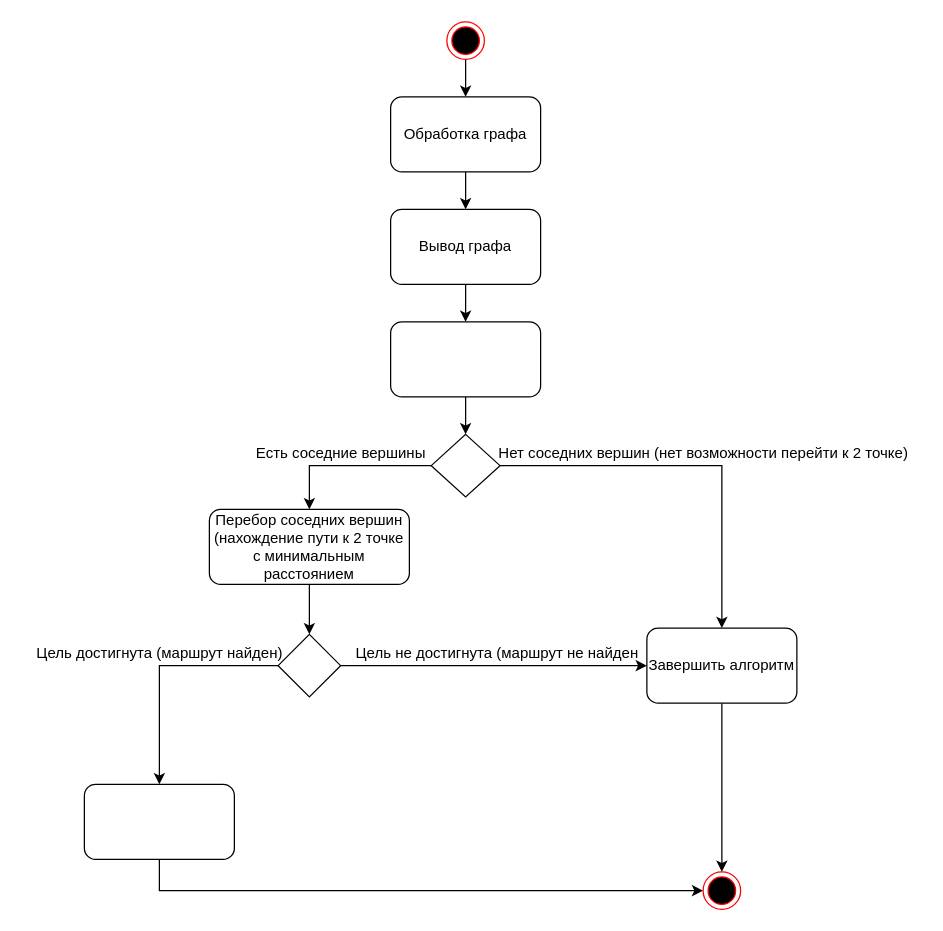
Some shapes in this 943 by 931 pixel diagram are drawn without their labels. Here are the shapes that lost their labels. From the top down, the box of each, then its label:
(389, 321, 541, 397): Выбор текущей вершины и конечной
(83, 783, 234, 859): Вывод построенного маршрута
